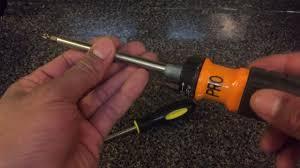Screwdriver: (116, 54, 299, 115), (105, 99, 195, 141), (43, 35, 90, 49)
